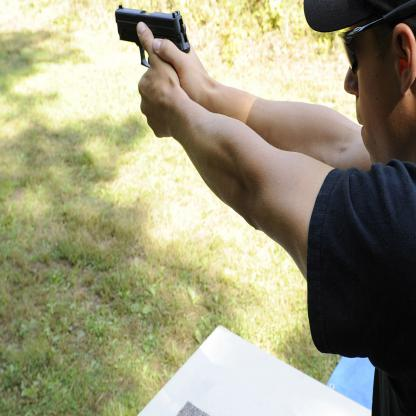gun: (111, 0, 195, 111)
